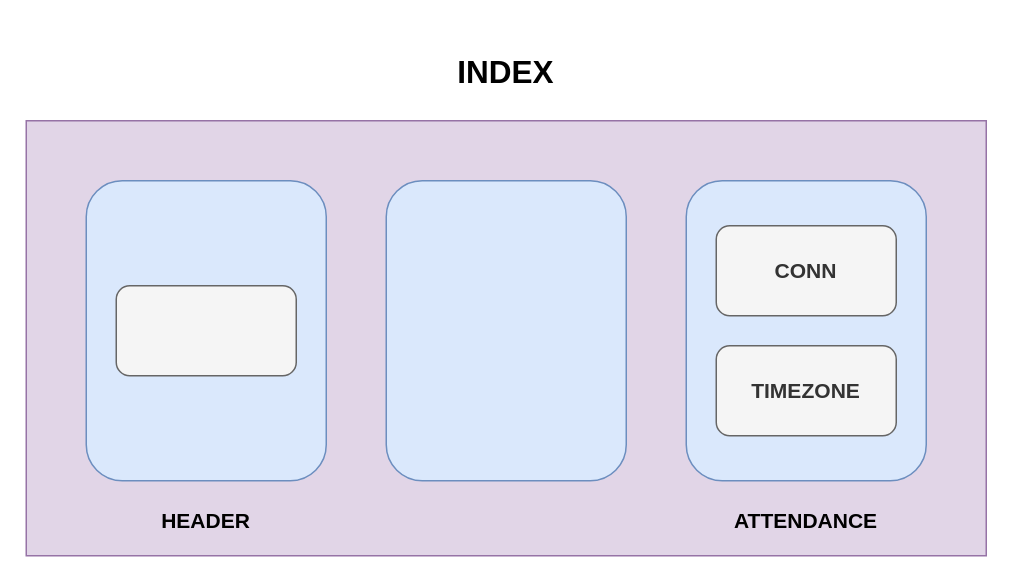
The diagram is 1013 pixels wide and 582 high, and some of its shapes have lost their labels. Here are the shapes that lost their labels. From the top down, the centre of each, then its label:
At (205,330): "SCRIPTS".
At (505,330): "QR-SCANNER".
